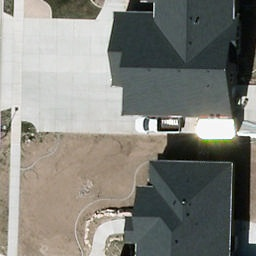camping car: (191, 117, 240, 142)
car: (0, 122, 1, 157)
pickup: (132, 116, 189, 134)
